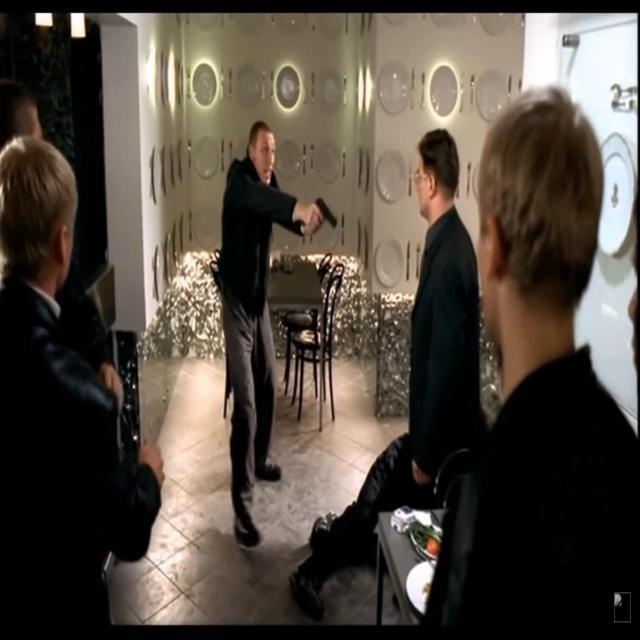pistol: (311, 193, 339, 234)
